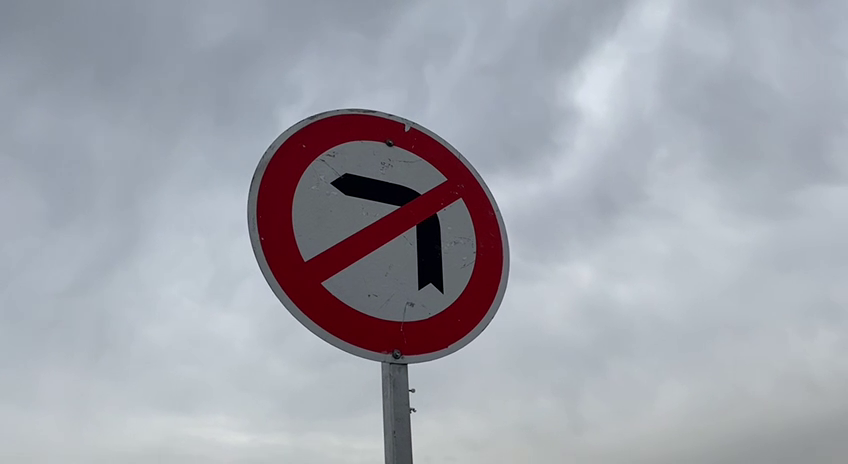noTurnLeft: (235, 106, 520, 369)
